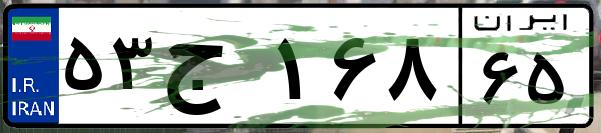1: (270, 28, 330, 110)
3: (110, 28, 158, 98)
5: (57, 26, 110, 100), (525, 38, 570, 115)
6: (330, 28, 385, 110), (475, 38, 525, 113)
8: (385, 28, 445, 110)
ج: (158, 20, 270, 120)
